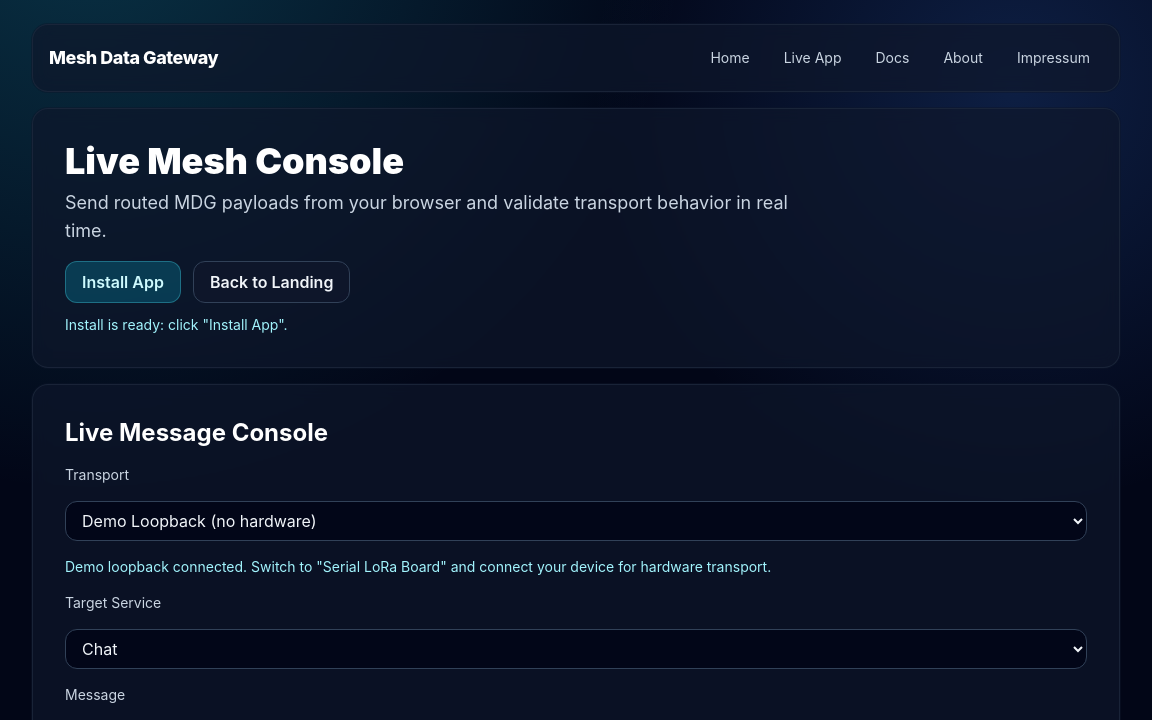
Test: App › can handle install prompt dismiss flow
The image size is (1152, 720).
Expected: the text "Install is ready: click \"Install App\"." is shown, [65,316,288,333]
Step 1. Click the button "Install App" → (123, 282), box [65,261,181,303]
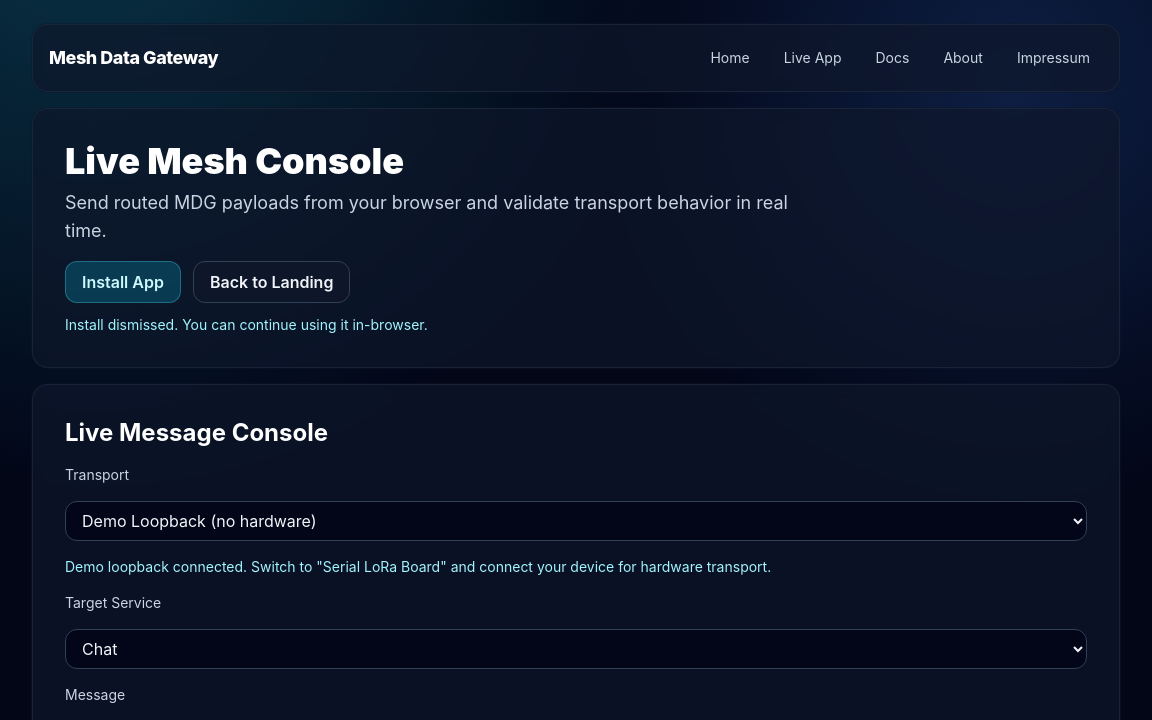
Expected: the text "Install dismissed. You can continue using it in-browser." is shown, [65,316,428,333]
